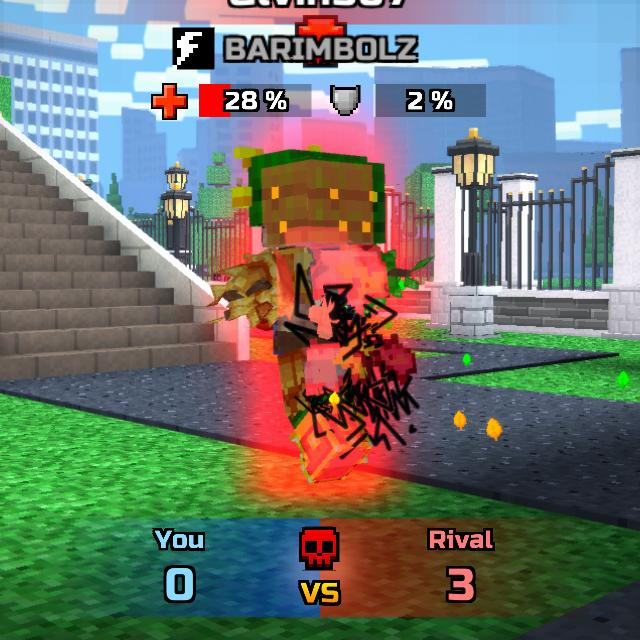Enemy: (248, 149, 400, 485)
